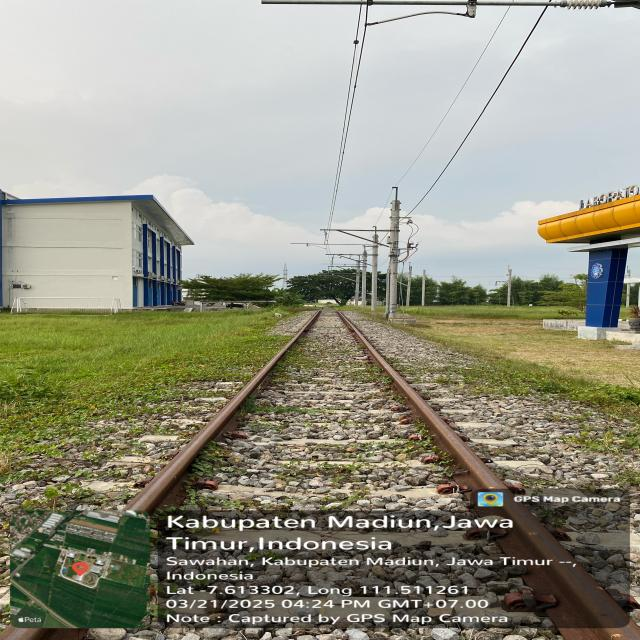rail-detection: (354, 329, 640, 640), (125, 316, 315, 514), (477, 480, 482, 486)
